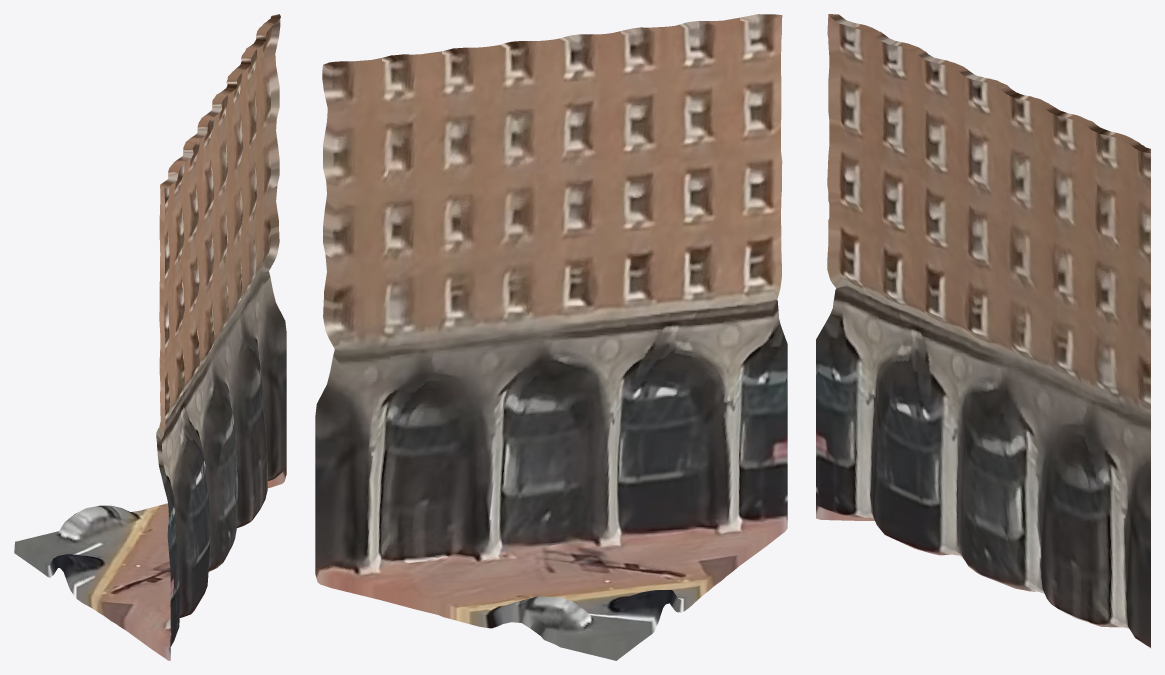
Rendered from z20-167786-405227-h0-yup-uvflip-v3-world.glb.
The picture shows the model from 3 angles, left to right: view 1: azimuth 30°, elevation 25°; view 2: azimuth 150°, elevation 25°; view 3: azimuth 270°, elevation 25°; orthographic projection. The views are drawn at different scales.
Size of the model in its own units: 15.36 by 25.6 by 15.2.
Materials: 1 (1 with a texture image).
